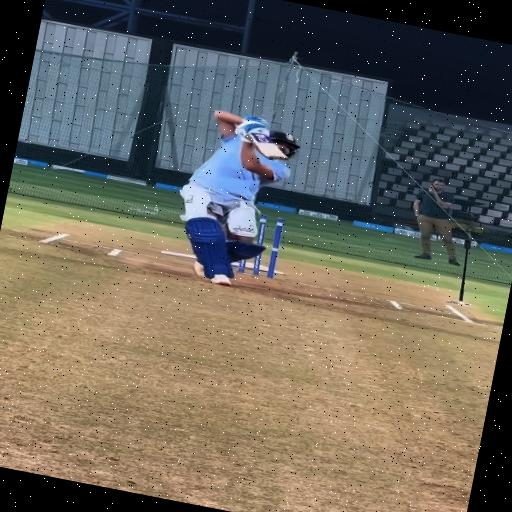Cricket bat: (246, 133, 287, 159)
